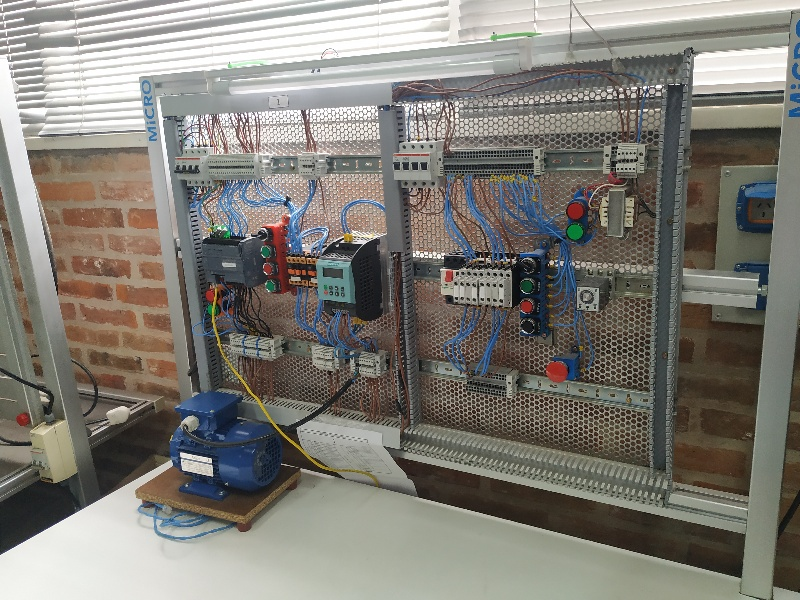Tablero 1: (164, 97, 659, 456)
